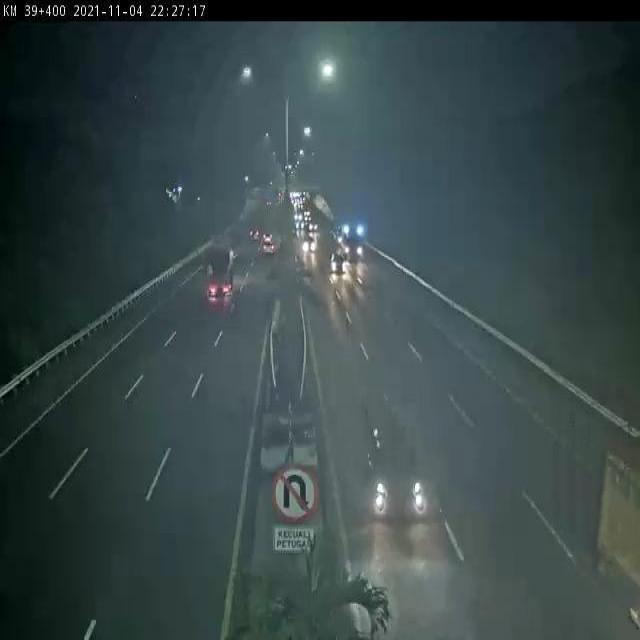car: (363, 391, 426, 516), (260, 240, 276, 259)
truck: (202, 245, 232, 300)
